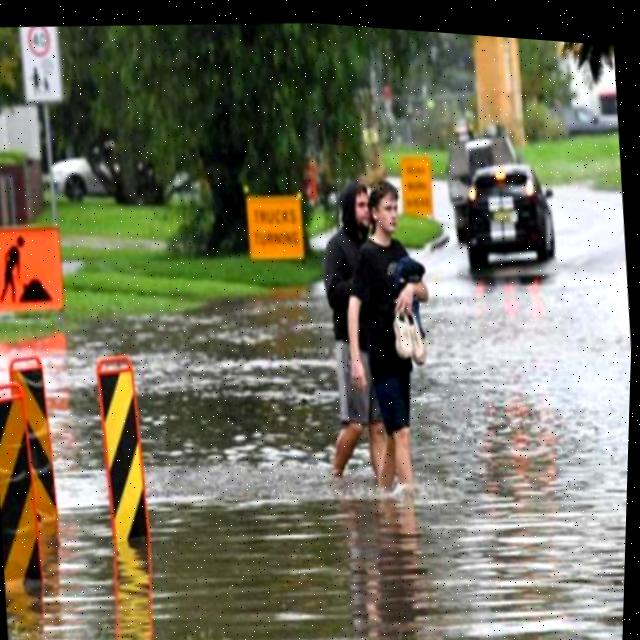civilian: (326, 163, 442, 526), (288, 167, 394, 488)
